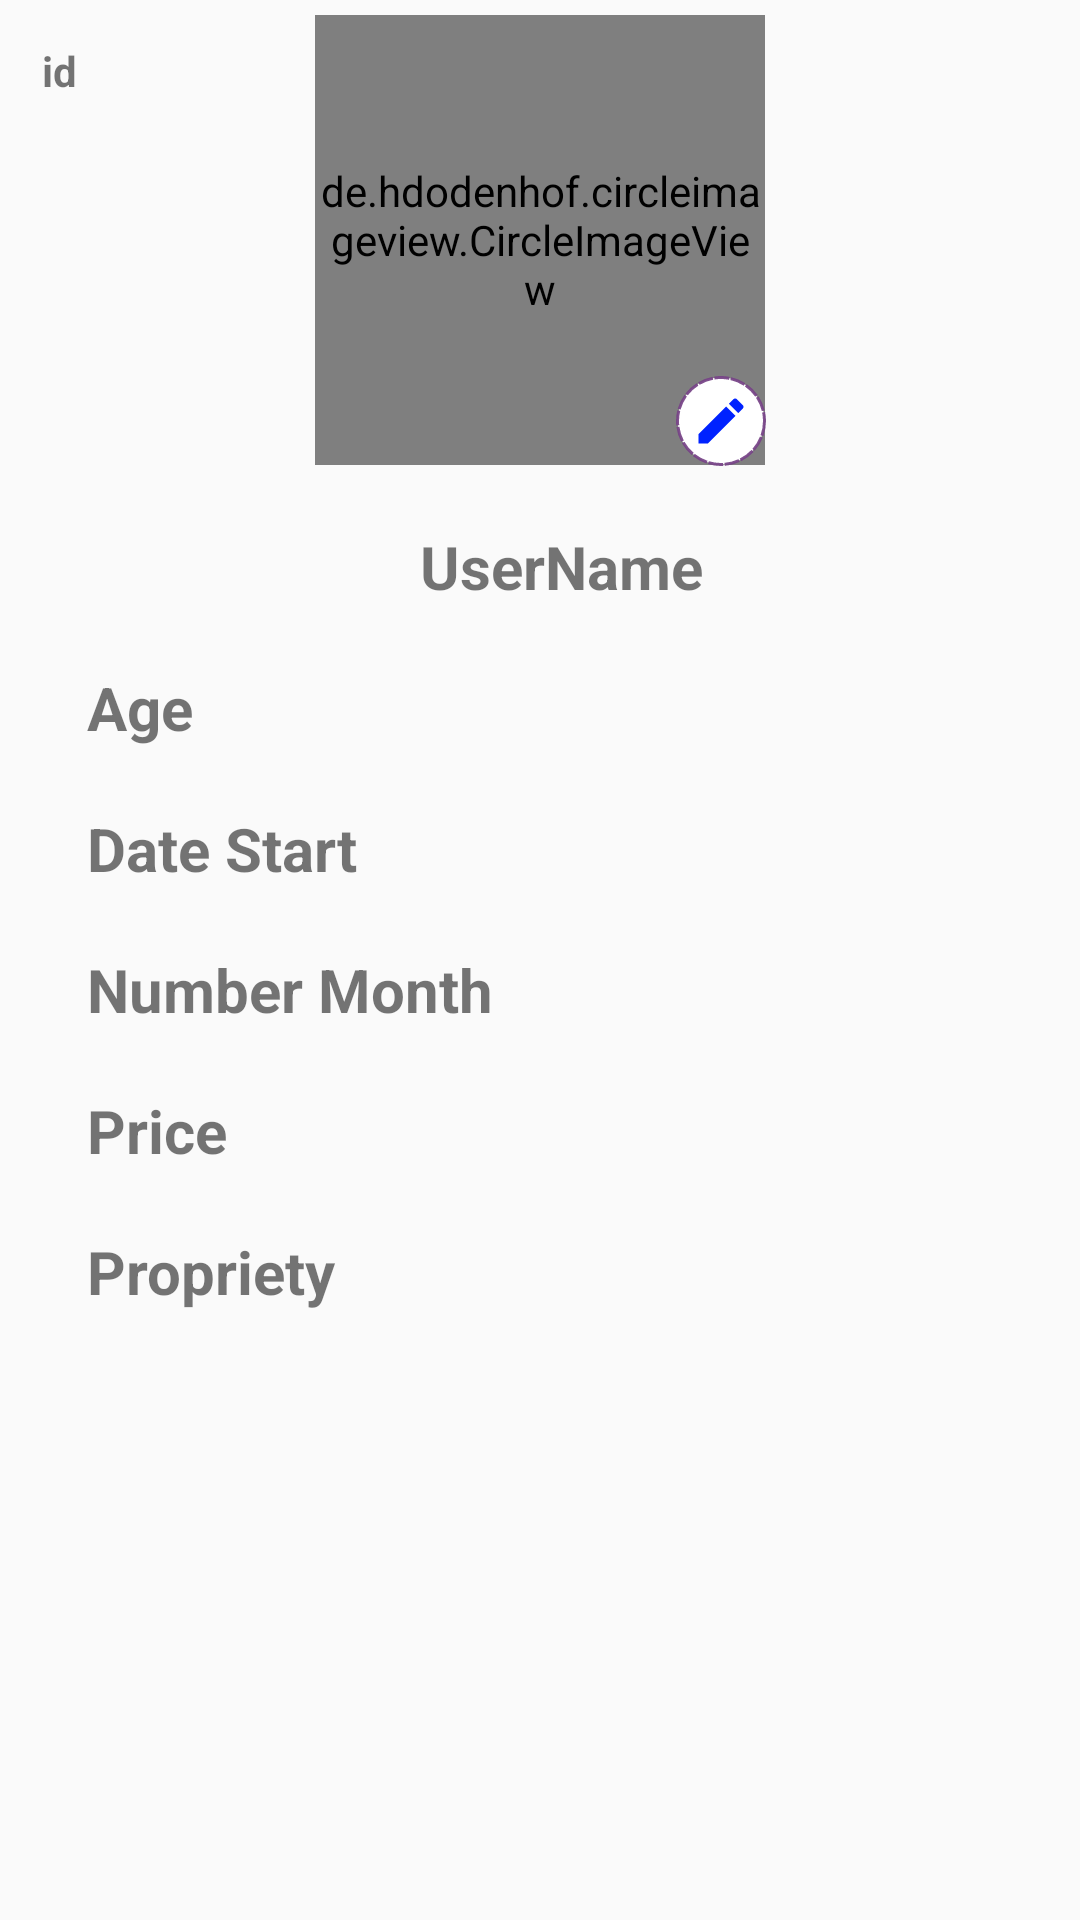

Icon click points for this 1080x1920 phone screenshot, format (x=x, y=y):
edit: (x=721, y=421)
